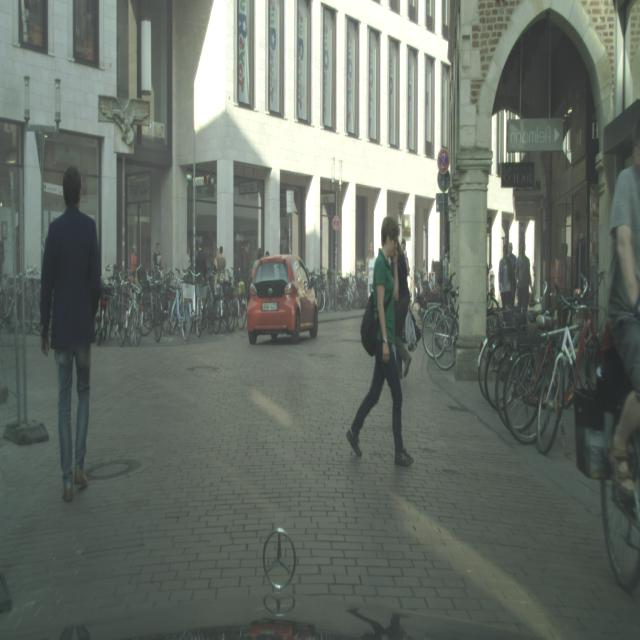car: (535, 268, 608, 456), (503, 282, 575, 442), (488, 310, 526, 414), (424, 277, 459, 365), (0, 264, 40, 334), (154, 272, 190, 342), (96, 272, 116, 346), (121, 282, 142, 347)
person: (39, 166, 102, 502), (347, 214, 415, 466), (606, 112, 640, 502), (515, 242, 532, 312), (498, 242, 514, 309)
truck: (246, 254, 319, 345)
